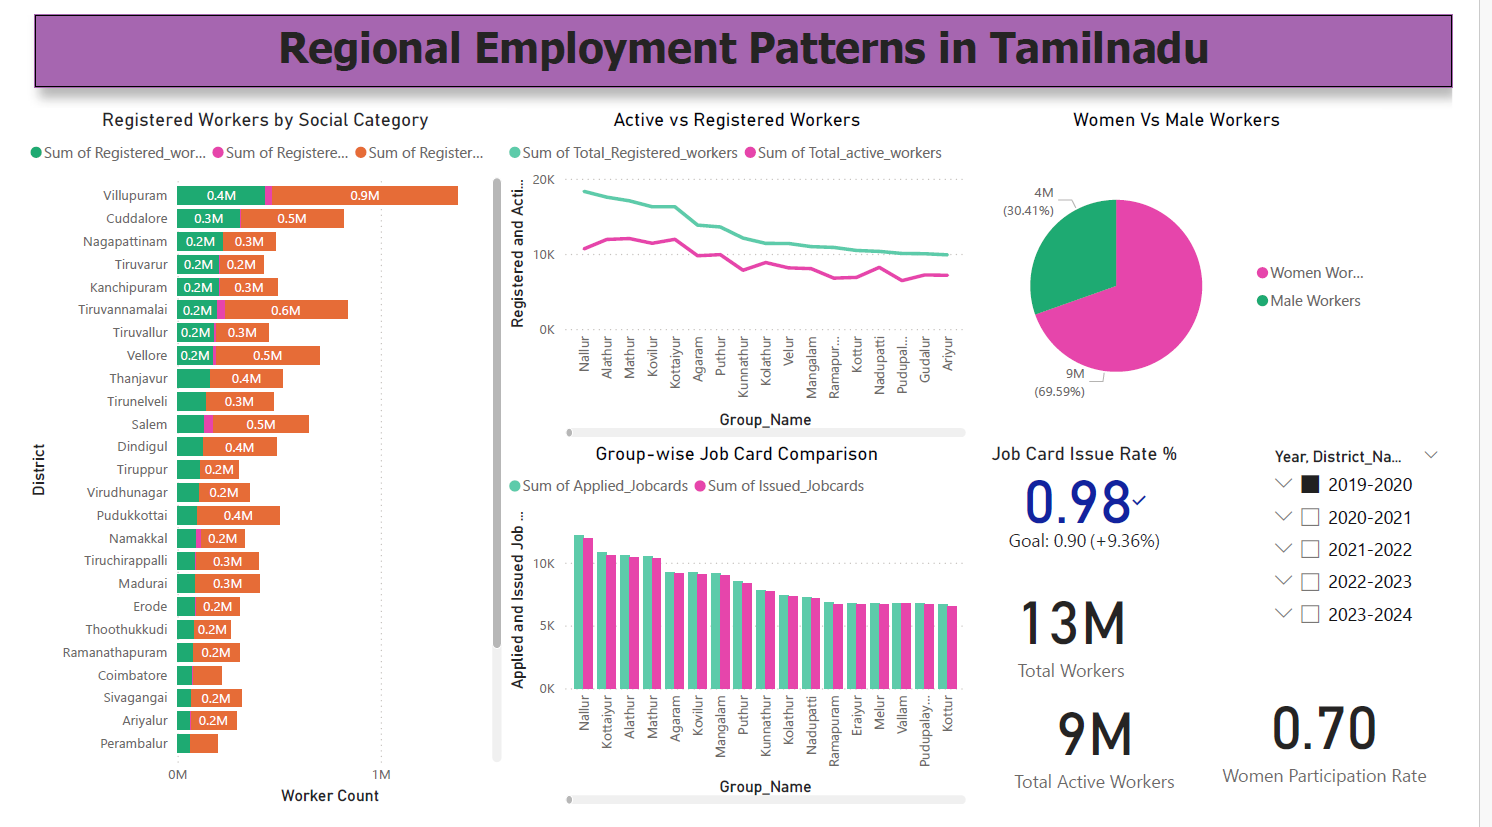

The dashboard page shown, as its layout file describes it:
{"tool":"powerbi","page":{"name":"Report","canvas":[1280,720],"ordinal":6},"visuals":[{"type":"textbox","box":[9.8,0,1270.5,64.8],"z":0},{"type":"clusteredColumnChart","title":"Group-wise Job Card Comparison","fields":{"Category":["category-wise-workers.Group_Name"],"Y":["Sum(category-wise-workers.Applied_Jobcards)","Sum(category-wise-workers.Issued_Jobcards)"]},"box":[429.2,382.7,419.4,328.9],"z":4},{"type":"lineChart","title":"Active vs Registered Workers","fields":{"Category":["category-wise-workers.Group_Name"],"Y":["Sum(category-wise-workers.Total_Registered_workers)","Sum(category-wise-workers.Total_active_workers)"]},"box":[429.2,84.4,419.4,298.4],"z":5},{"type":"pieChart","title":"Women Vs Male Workers","fields":{"Y":["category-wise-workers.Women Workers","category-wise-workers.Male Workers"]},"box":[848.6,84.4,368.1,298.4],"z":6},{"type":"slicer","fields":{"Values":["category-wise-workers.Year","category-wise-workers.District_Name","category-wise-workers.Block_Name","category-wise-workers.Group_Name"]},"box":[1107.9,382.7,172.4,328.9],"z":7},{"type":"barChart","title":"Registered Workers by Social Category","fields":{"Category":["category-wise-workers.District_Name"],"Y":["Sum(category-wise-workers.Registered_workers_scs)","Sum(category-wise-workers.Registered_workers_sts)","Sum(category-wise-workers.Registered_workers_others)"]},"box":[0,84.4,432.9,627.3],"z":8},{"type":"card","fields":{"Values":["category-wise-workers.Total Workers"]},"box":[867,498.9,143.1,99],"z":9},{"type":"card","fields":{"Values":["category-wise-workers.Total Active Workers"]},"box":[867,598,184.6,100.3],"z":10},{"type":"kpi","title":"Job Card Issue Rate % ","fields":{"Indicator":["category-wise-workers.Job Card Issue Rate %"],"TrendLine":["category-wise-workers.Year"],"Goal":["category-wise-workers.Job Card Issue Target %"]},"box":[848.6,382.7,203,107.6],"z":11},{"type":"card","fields":{"Values":["category-wise-workers.Average Women Participation %"]},"box":[1065.1,588.2,200.5,110.1],"z":12}]}

Visuals, with their boxes in screenshot pixels (x1, y1, x2, y2), scaled from the page's 1280x720 canvas onto the 1492x827 screenshot:
textbox: [11, 0, 1491, 74]
"Group-wise Job Card Comparison" clusteredColumnChart: [500, 440, 989, 817]
"Active vs Registered Workers" lineChart: [500, 97, 989, 440]
"Women Vs Male Workers" pieChart: [989, 97, 1418, 440]
slicer - category-wise-workers.Year x category-wise-workers.District_Name: [1291, 440, 1491, 817]
"Registered Workers by Social Category" barChart: [0, 97, 505, 817]
card - category-wise-workers.Total Workers: [1011, 573, 1177, 687]
card - category-wise-workers.Total Active Workers: [1011, 687, 1226, 802]
"Job Card Issue Rate % " kpi: [989, 440, 1226, 563]
card - category-wise-workers.Average Women Participation %: [1242, 676, 1475, 802]
